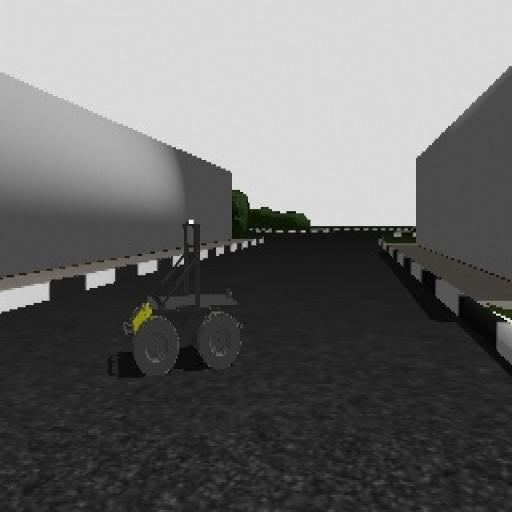huskya200: (110, 208, 262, 388)
